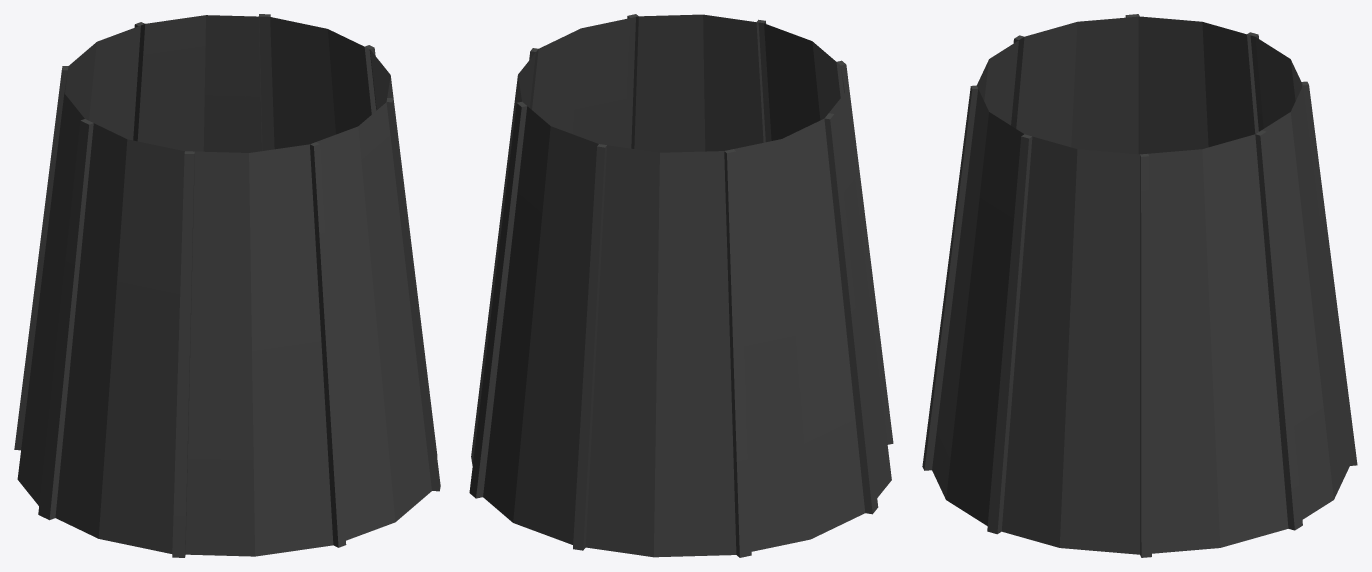
Rendered from dust.fbx.
3 views of the same model, side by side, from view 1: azimuth 30°, elevation 25°; view 2: azimuth 150°, elevation 25°; view 3: azimuth 270°, elevation 25° (orthographic).
Parts seen in each view (by area): view 1: Cylinder; view 2: Cylinder; view 3: Cylinder.
Part boxes in pixels (bbox=[...]): Cylinder: bbox=[14, 14, 440, 557]; Cylinder: bbox=[469, 14, 893, 557]; Cylinder: bbox=[922, 14, 1357, 557].
Size of the model in its own units: 207 by 200 by 207.
1 material, 1 textured.
